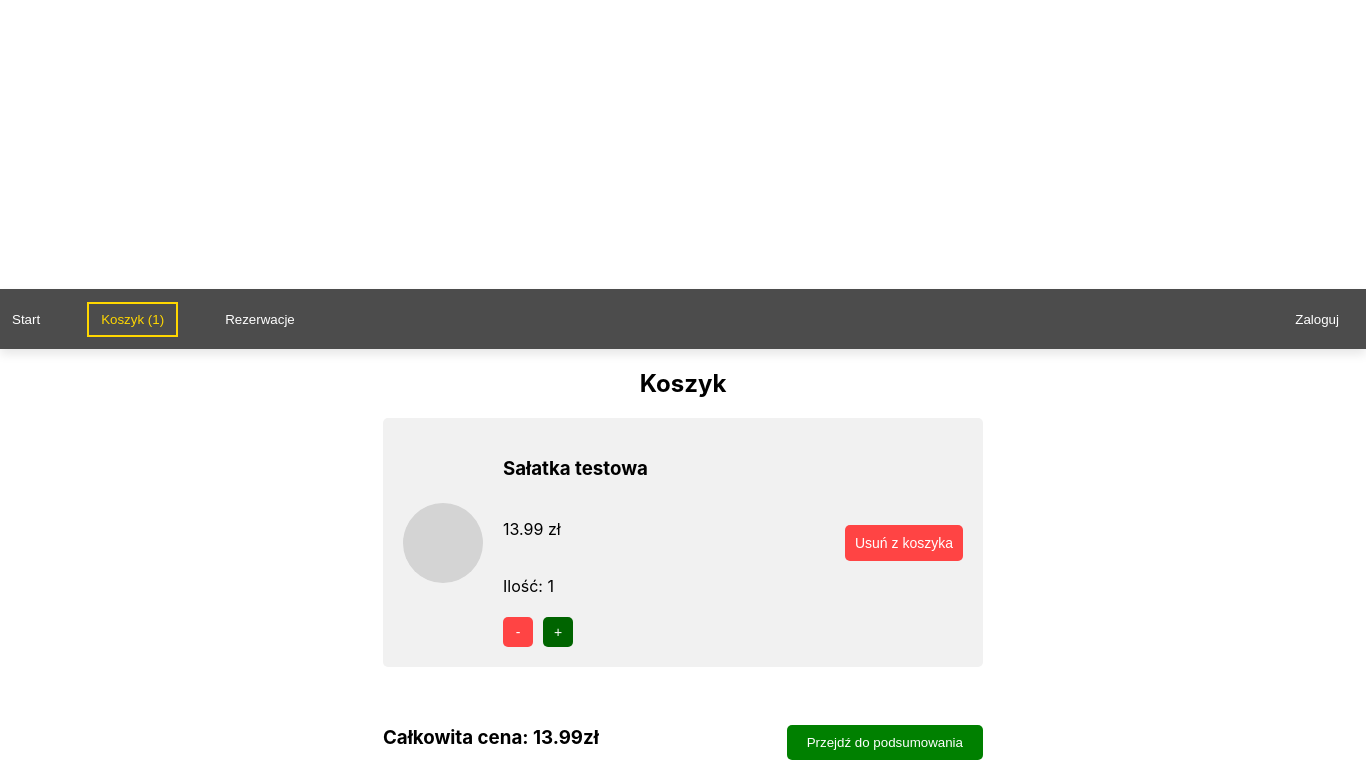
Scenario: Cart › increases and decreases quantity of product
(page scrolled)
Expected: the text "Ilość: 1" is shown, 503,576 -> 554,596
Expected: the heading "Całkowita cena: 13.99zł" is shown, 383,726 -> 599,749
What coordinates should you click on to do the following:
click the button "+"
I would click on:
 (558, 632)
Its box is 543,617 -> 573,647.
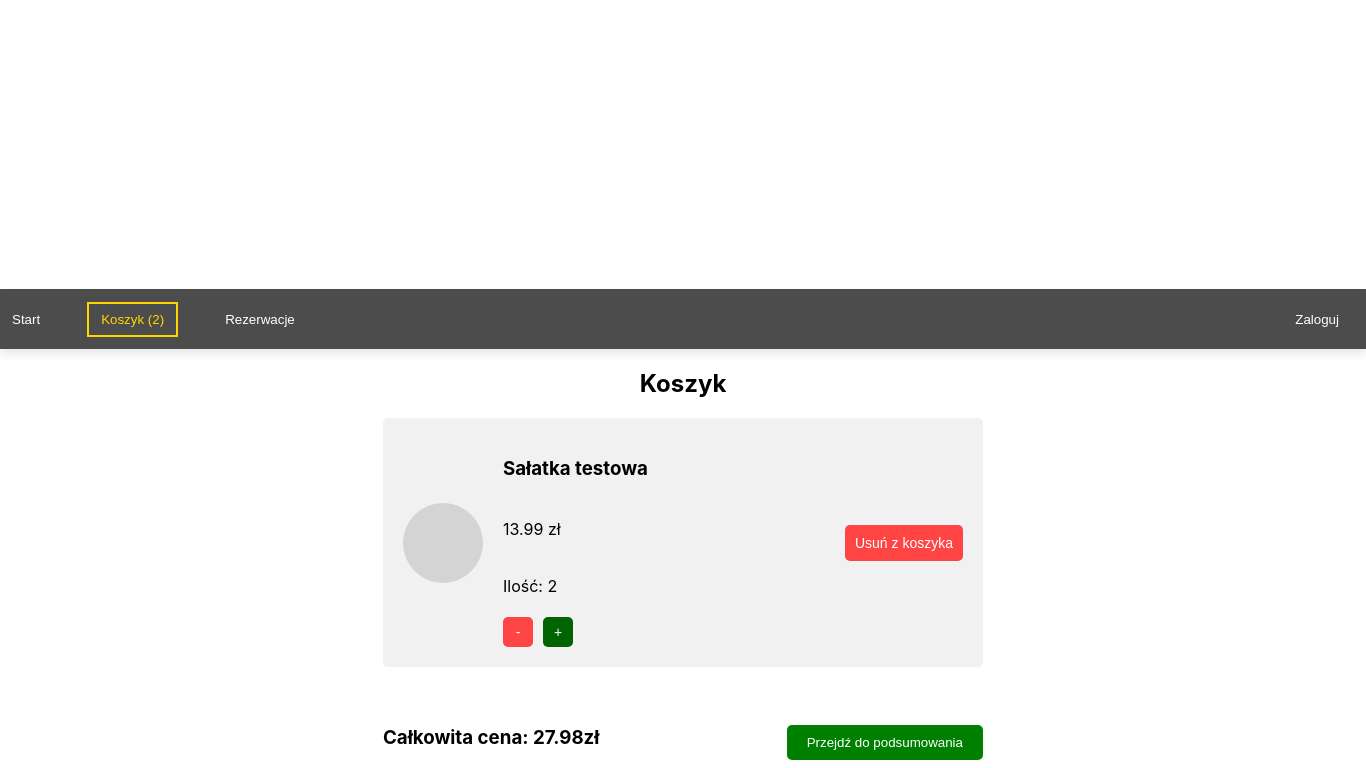
Expected: the text "Ilość: 2" is shown, 503,576 -> 557,596
Expected: the heading "Całkowita cena: 27.98zł" is shown, 383,726 -> 599,749
What coordinates should you click on to do the following:
click the button "-"
I would click on:
 (518, 632)
Its box is 503,617 -> 533,647.
(page scrolled)
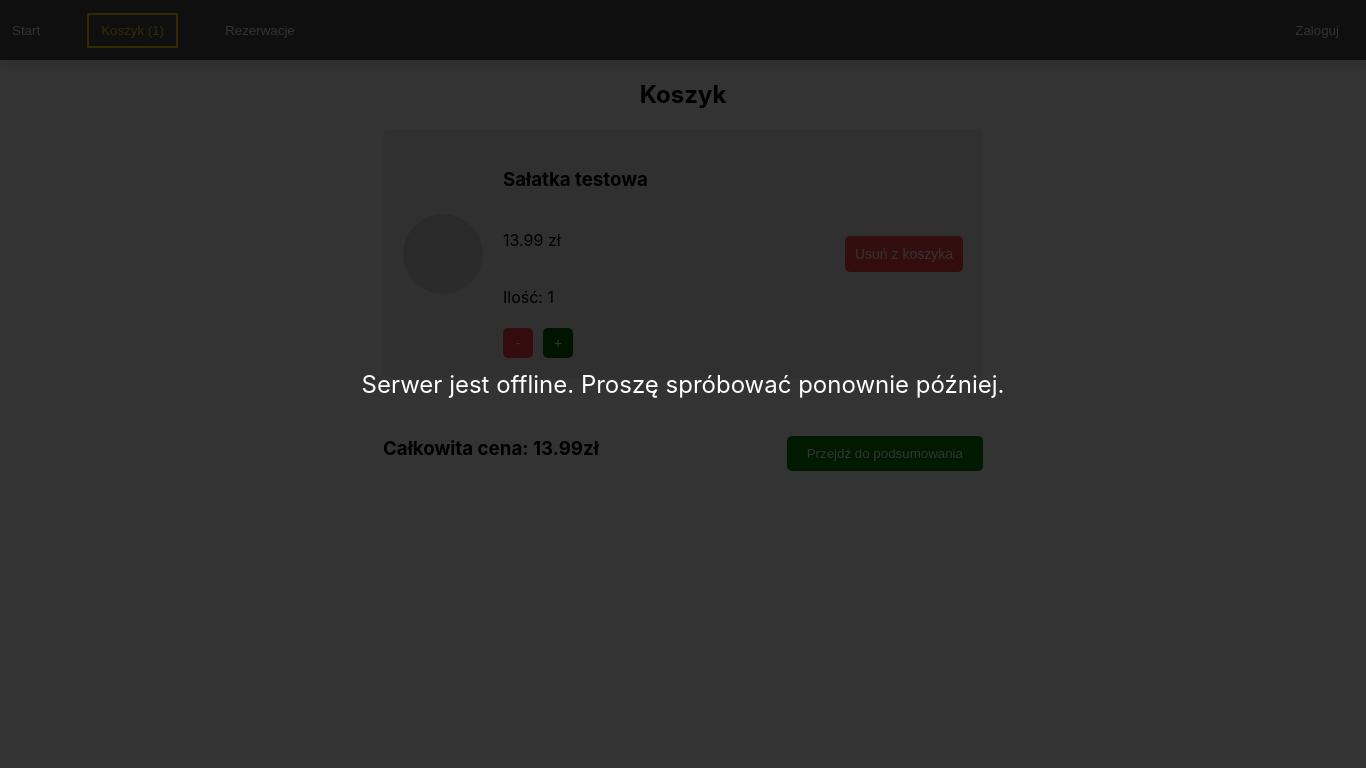
Expected: the text "Ilość: 1" is shown, 503,287 -> 554,307
Expected: the heading "Całkowita cena: 13.99zł" is shown, 383,437 -> 599,460
